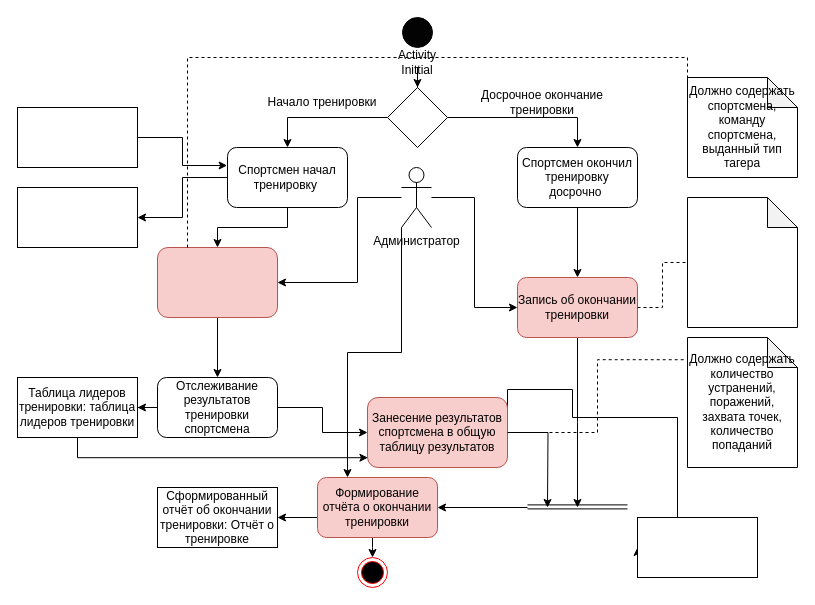
Image size: 815x605. Some labels were removed from this diagram. Here are the shapes that lost their labels. From the top down, the box of each, then its label:
(16, 106, 138, 168): Список выданного инвентаря: список выданного инвентаря
(16, 186, 138, 248): Cписок команд: Список команд
(156, 246, 278, 318): Регистрация спортсмена в электронной системе
(686, 196, 798, 328): Должно содержать дату и время окончания тренировки, причину окончания
(636, 516, 758, 578): Таблица лучших спортсменов месяца: Таблица лучших
